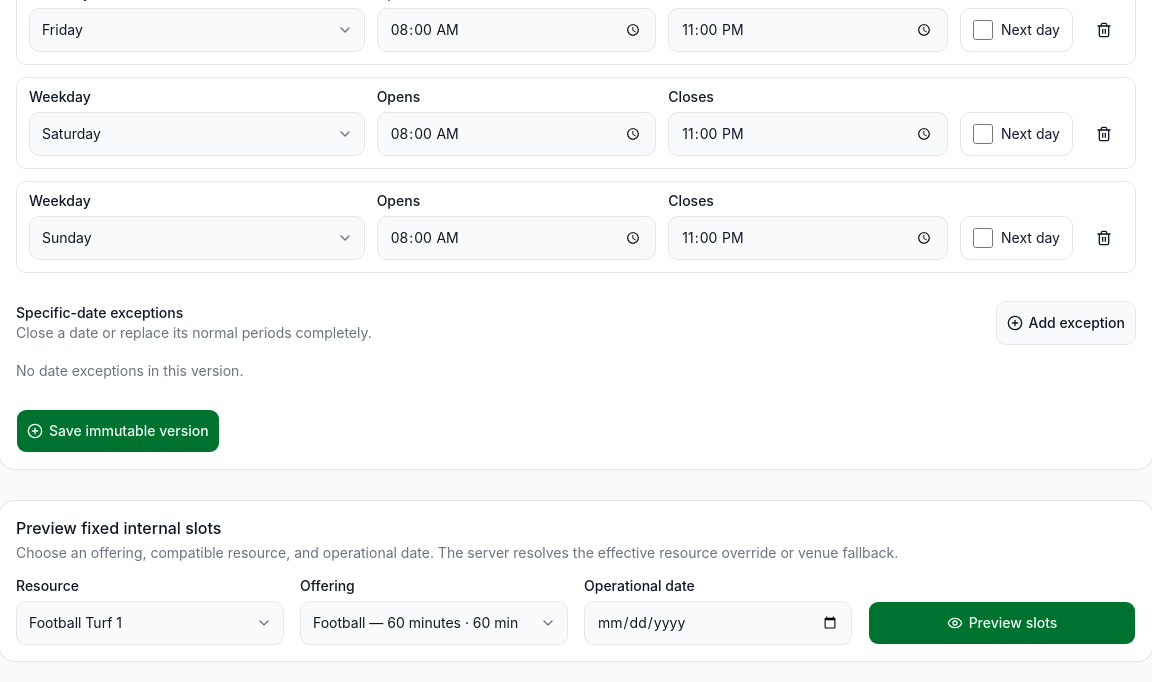
Test case: ScheduleSetup › supports replacement periods and previews timezone-aware fixed slots
(page scrolled)
Click the button "Add exception" at (1066, 323), box [996, 301, 1136, 345]
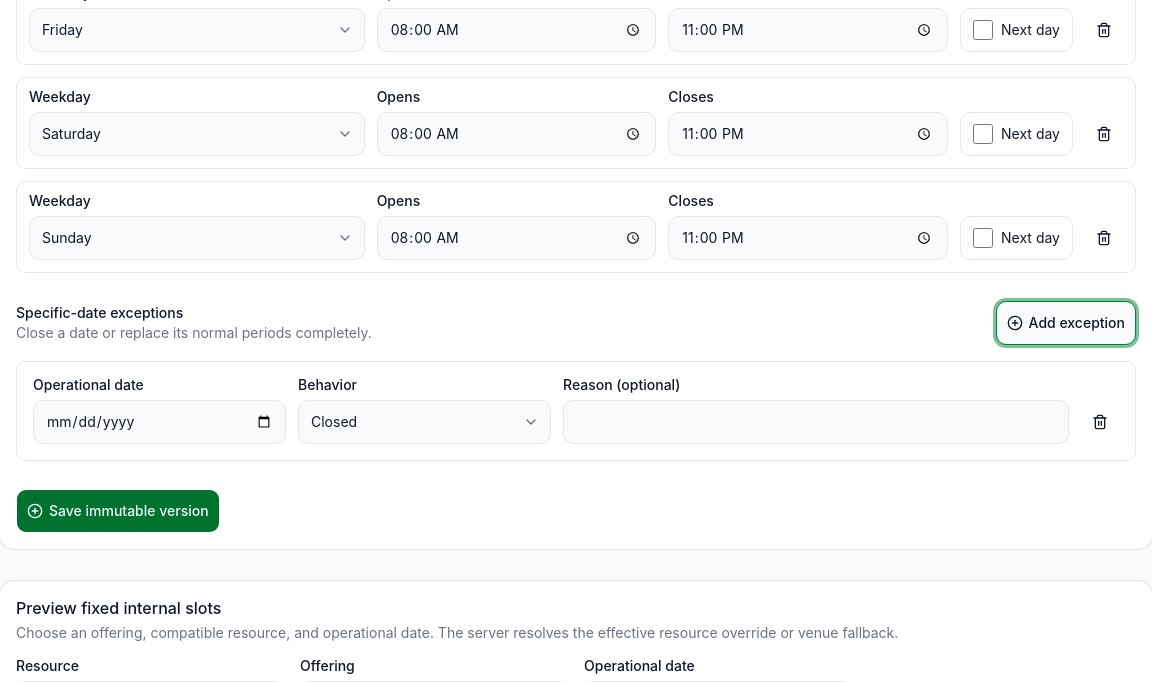
Select "Replace hours" in the dropdown labelled "Behavior" at (424, 422), box [298, 400, 551, 444]
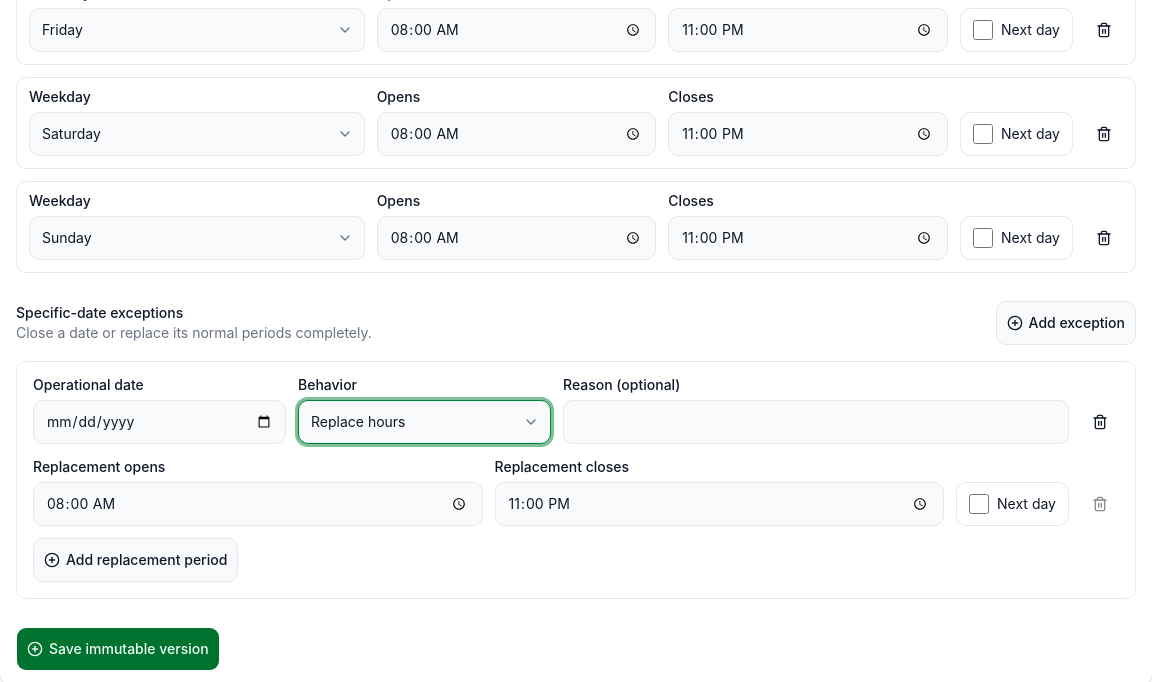
Result: the time field labelled "Replacement opens" holds "08:00" at [33, 482, 482, 526]
Click the button "Add replacement period" at (136, 560), box [33, 538, 238, 582]
(page scrolled)
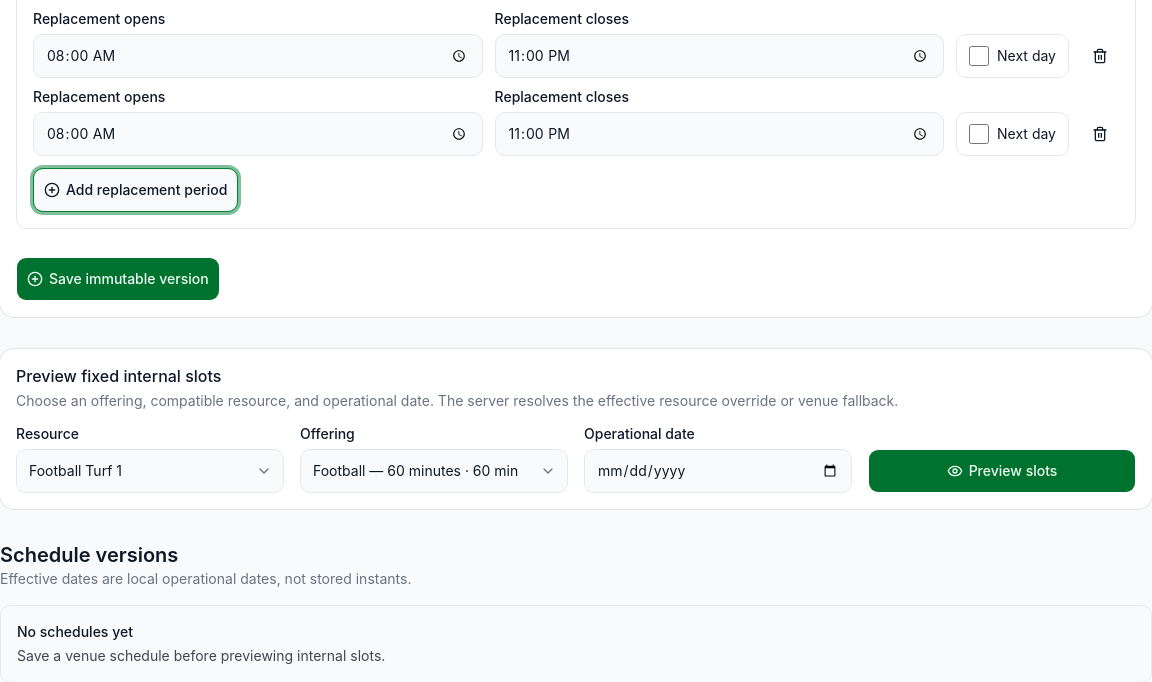
Result: the number of time fields labelled "Replacement opens" is 2 at [33, 34, 482, 78]; [33, 112, 482, 156]
Type "2026-07-27" into the 2nd date field labelled "Operational date" at (718, 471), box [584, 449, 852, 493]
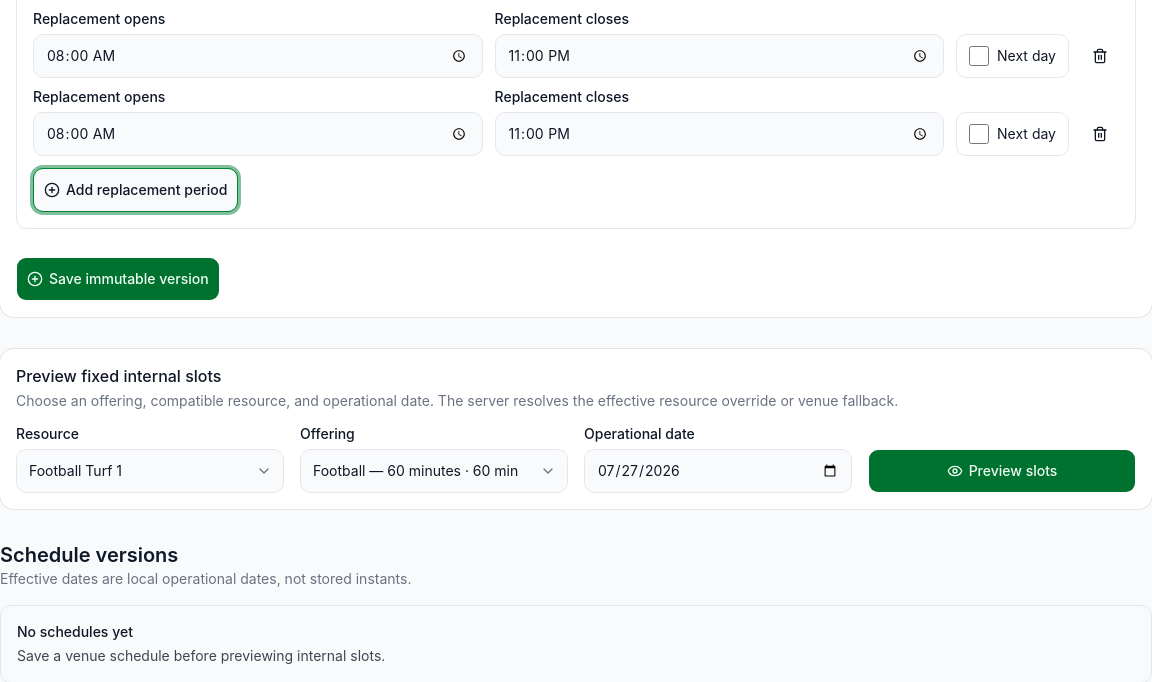
Click the button "Preview slots" at (1002, 471), box [868, 449, 1136, 493]
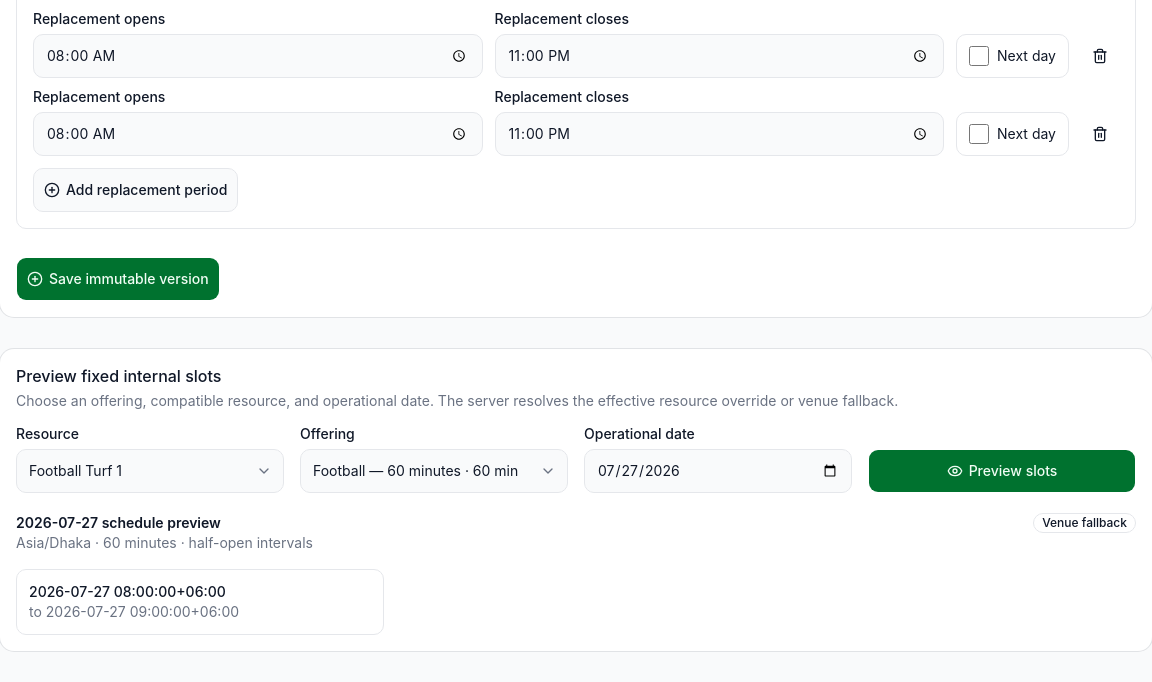
Result: the heading "2026-07-27 schedule preview" is shown at [16, 514, 221, 531]
Result: the text "Venue fallback" is shown at [1033, 513, 1136, 533]
Result: the text "2026-07-27 08:00:00+06:00" is shown at [29, 583, 226, 600]
